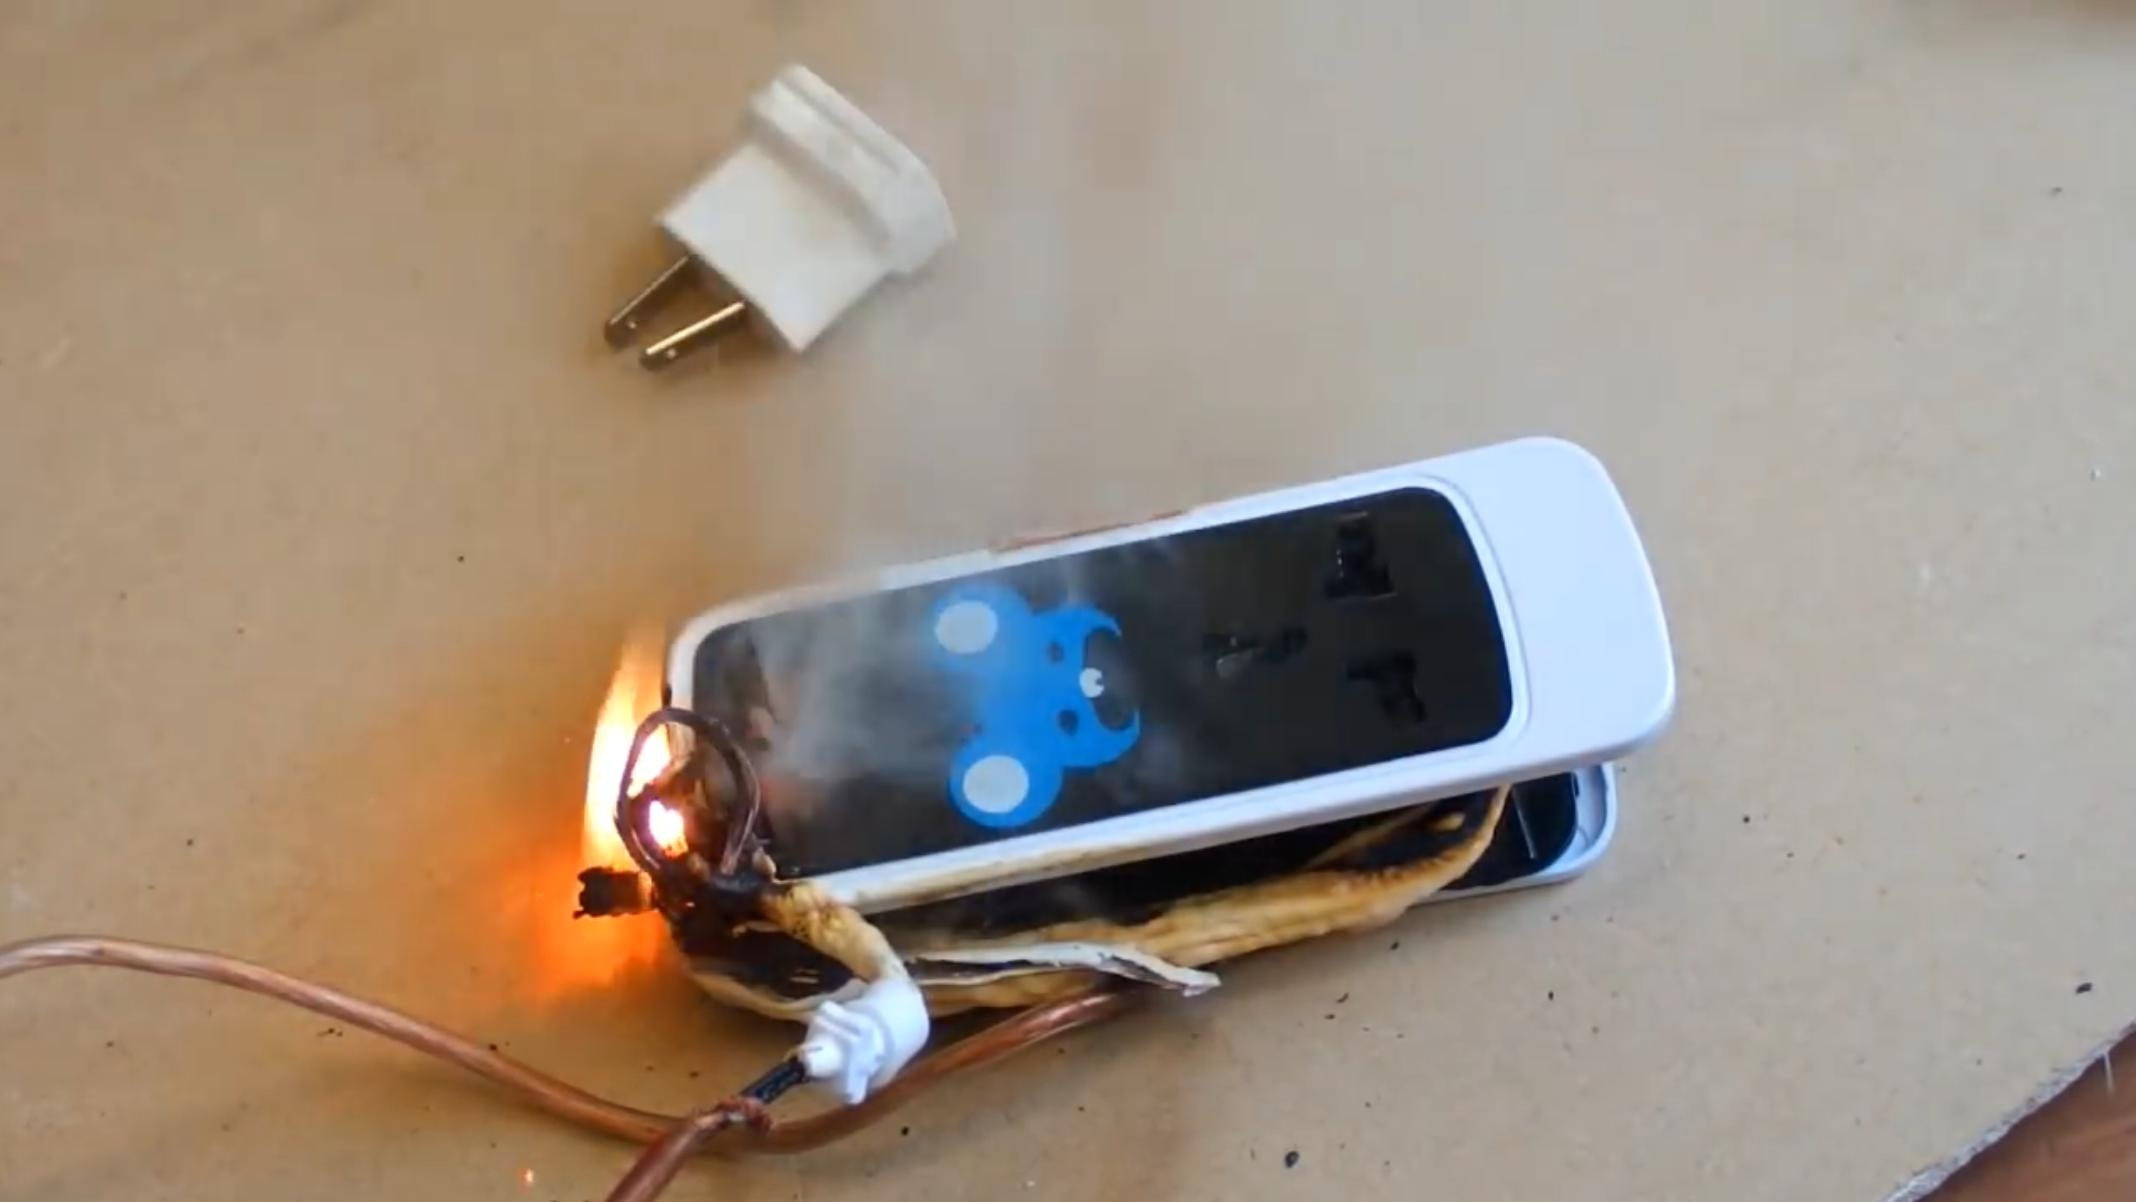fire: (571, 659, 692, 888)
